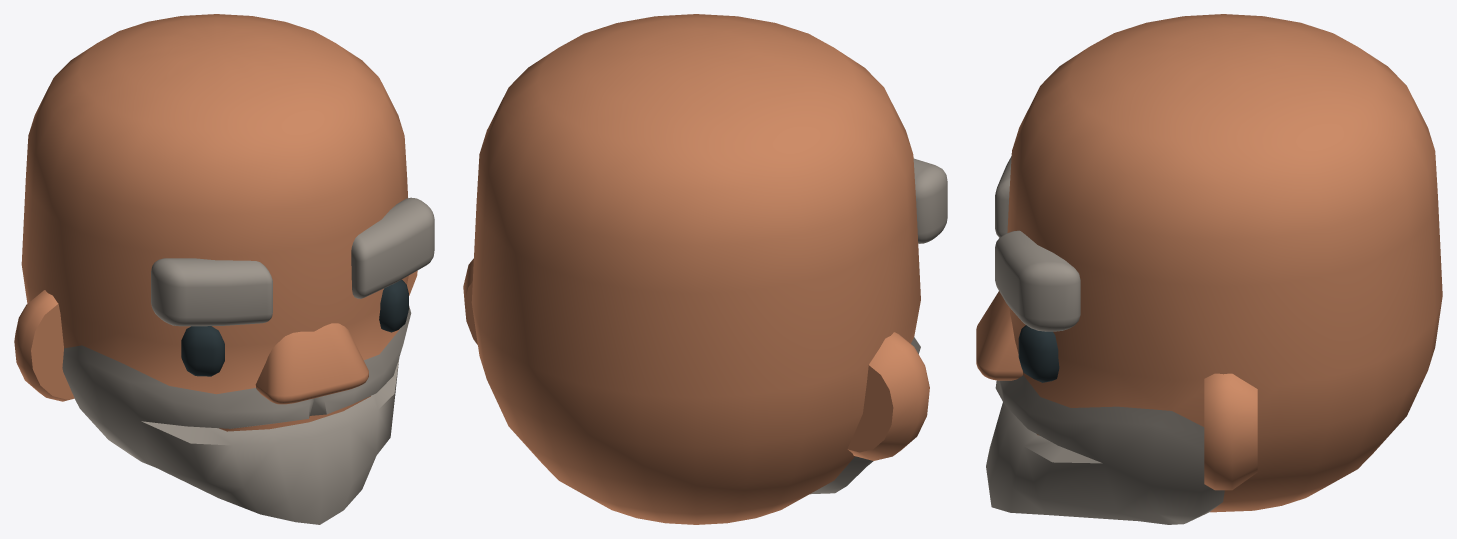
The model's file is kaykit-barbarianheadb.glb.
3 views of the same model, side by side, from view 1: azimuth 30°, elevation 25°; view 2: azimuth 150°, elevation 25°; view 3: azimuth 270°, elevation 25° (orthographic). The views are drawn at different scales.
Parts seen in each view (by area): view 1: barbarianHeadB; view 2: barbarianHeadB; view 3: barbarianHeadB.
Boxes of the visible parts, bbox=[...] form: barbarianHeadB: bbox=[14, 14, 434, 524]; barbarianHeadB: bbox=[463, 14, 947, 524]; barbarianHeadB: bbox=[976, 14, 1442, 524].
Bounding box in the file's own units: 1.18 × 1.14 × 1.06.
